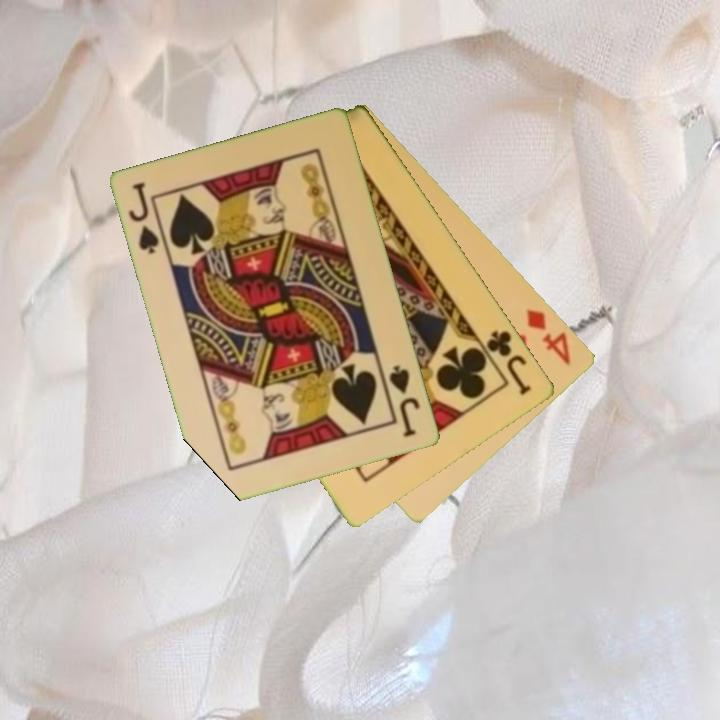4d: (523, 305, 575, 369)
Jc: (483, 326, 535, 399)
Js: (125, 178, 163, 258), (386, 362, 423, 440)
